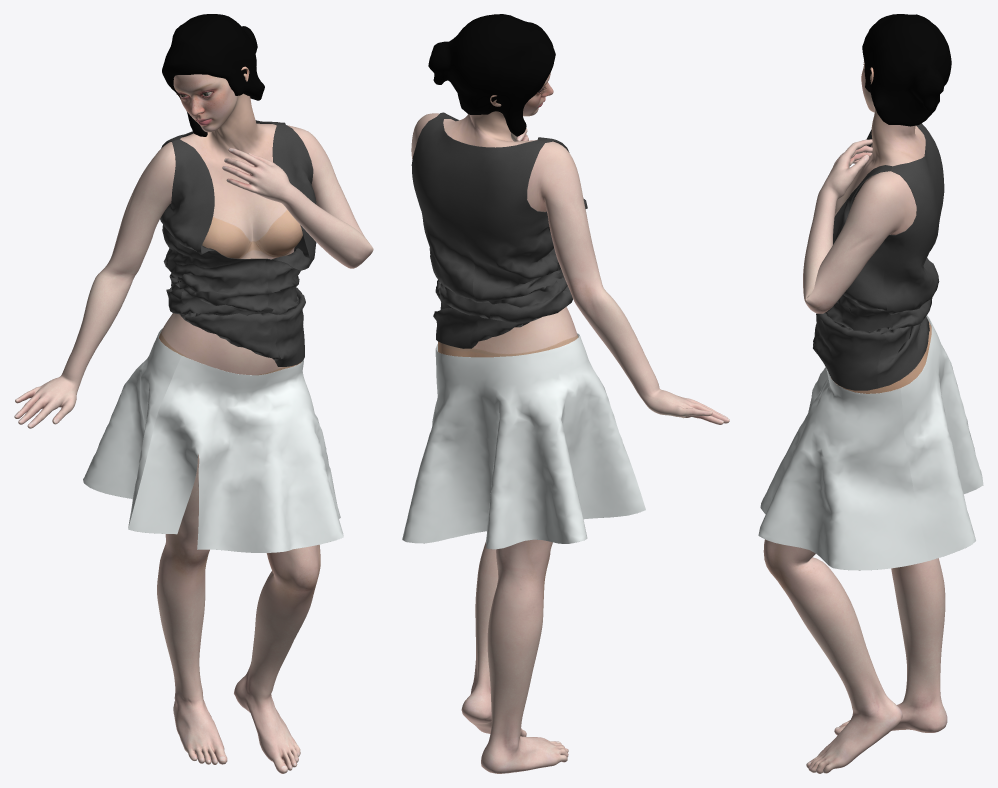
Rendered from random.obj.
3 views of the same model, side by side, from view 1: azimuth 30°, elevation 25°; view 2: azimuth 150°, elevation 25°; view 3: azimuth 270°, elevation 25° (orthographic). The views are drawn at different scales.
Bounding box in the file's own units: 813 × 1767 × 489.
